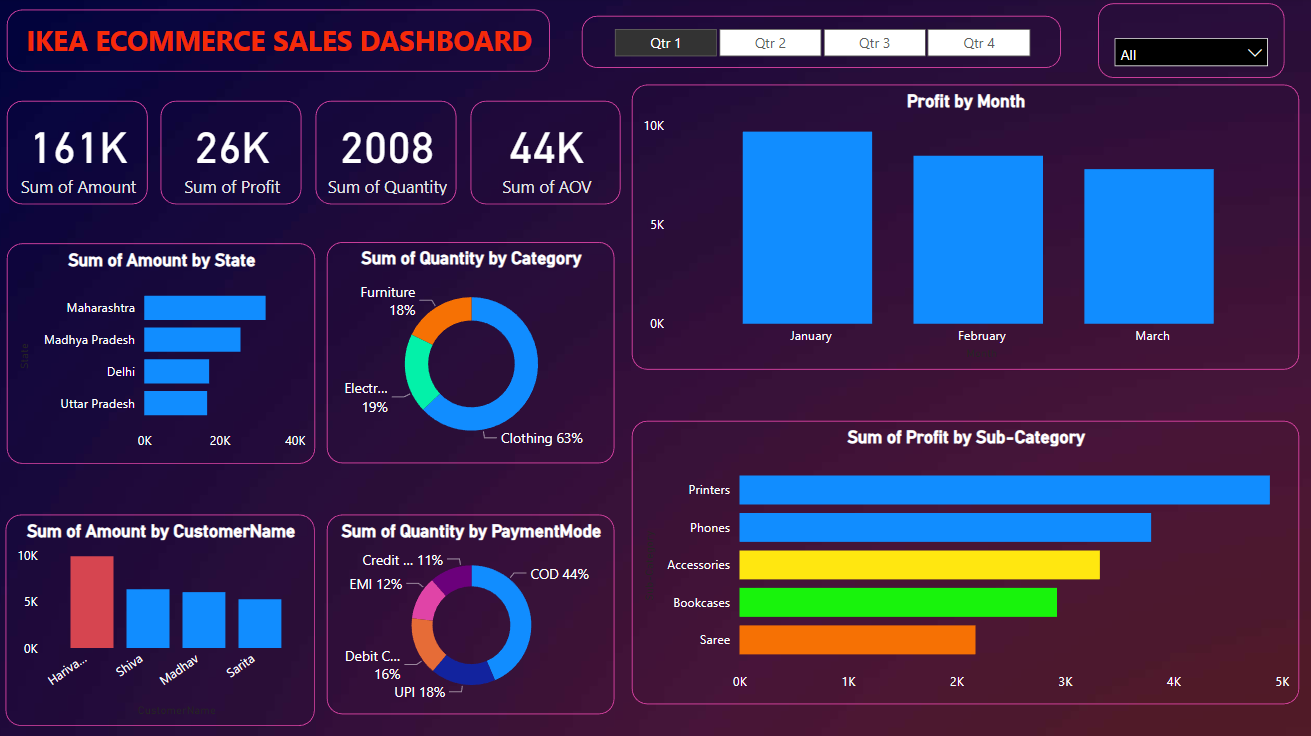

This screenshot's page, from the dashboard's own definition file:
{"tool":"powerbi","page":{"name":"Page 1","canvas":[1280,720],"ordinal":0},"visuals":[{"type":"columnChart","title":"Profit by Month","fields":{"Category":["Orders.Order Date.Variation.Date Hierarchy.Month"],"Y":["Details.Profit"]},"box":[616.2,85,643.8,275],"z":0},{"type":"textbox","box":[13.8,12.5,523.8,60],"z":1000},{"type":"barChart","fields":{"Category":["Details.Sub-Category"],"Y":["Details.Profit"]},"box":[616.2,408.8,643.8,273.8],"z":2000},{"type":"donutChart","fields":{"Category":["Details.Category"],"Y":["Details.Quantity"]},"box":[322.5,236.2,277.5,213.8],"z":3000},{"type":"donutChart","fields":{"Y":["Details.Quantity"],"Category":["Details.PaymentMode"]},"box":[322.5,498.8,277.5,192.5],"z":4000},{"type":"card","fields":{"Values":["Details.Amount"]},"box":[13.8,100,136.2,100],"z":5000},{"type":"card","fields":{"Values":["Details.Profit"]},"box":[161.2,100,136.2,100],"z":6000},{"type":"card","fields":{"Values":["Details.Quantity"]},"box":[311.2,100,136.2,100],"z":7000},{"type":"card","fields":{"Values":["Details.AOV"]},"box":[461.2,100,145,100],"z":8000},{"type":"barChart","fields":{"Category":["Orders.State"],"Y":["Details.Amount"]},"box":[13.8,237.5,297.5,212.5],"z":9000},{"type":"columnChart","fields":{"Y":["Details.Amount"],"Category":["Orders.CustomerName"]},"box":[12.5,498.8,298.8,203.8],"z":10000},{"type":"slicer","fields":{"Values":["Orders.Order Date.Variation.Date Hierarchy.Quarter"]},"box":[567.5,17.5,462.5,50],"z":11000},{"type":"slicer","fields":{"Values":["Orders.State"]},"box":[1066.1,6,179.7,72.4],"z":12000}]}

Visuals, with their boxes in screenshot pixels (x1, y1, x2, y2), scaled from the page's 1280x720 canvas onto the 1311x736 screenshot:
"Profit by Month" columnChart: 631:87:1291:368
textbox: 14:13:551:74
barChart - Details.Sub-Category x Details.Profit: 631:418:1291:698
donutChart - Details.Category x Details.Quantity: 330:241:615:460
donutChart - Details.Quantity x Details.PaymentMode: 330:510:615:707
card - Details.Amount: 14:102:154:204
card - Details.Profit: 165:102:305:204
card - Details.Quantity: 319:102:458:204
card - Details.AOV: 472:102:621:204
barChart - Orders.State x Details.Amount: 14:243:319:460
columnChart - Details.Amount x Orders.CustomerName: 13:510:319:718
slicer - Orders.Order Date.Variation.Date Hierarchy.Quarter: 581:18:1055:69
slicer - Orders.State: 1092:6:1276:80
